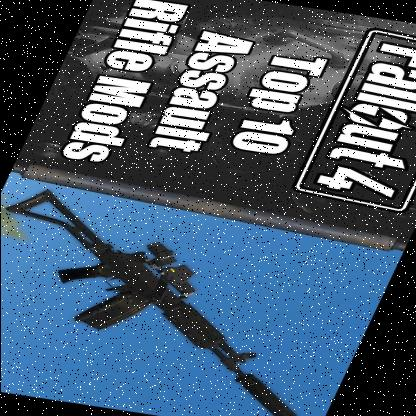rifle: (0, 185, 389, 416)
